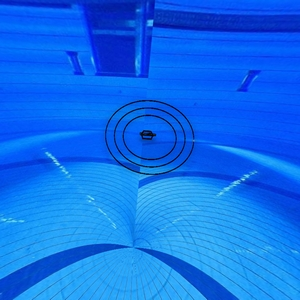circle: (101, 99, 199, 179)
submarine: (139, 126, 157, 146)
